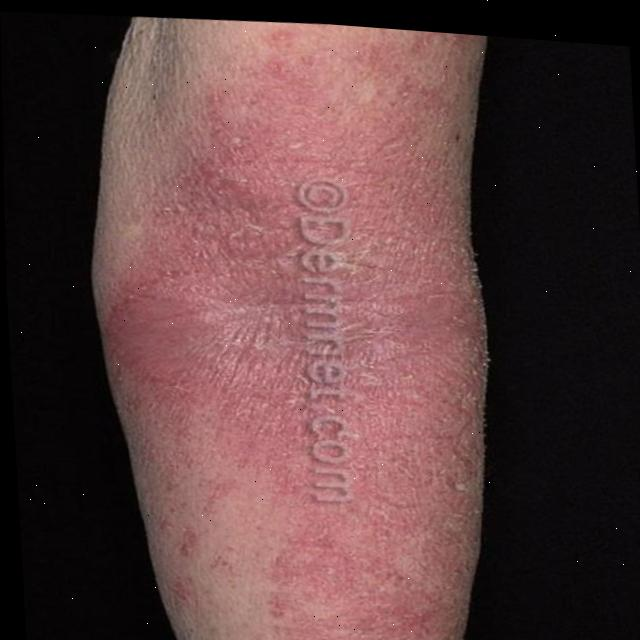Eczema: (157, 81, 499, 640)
